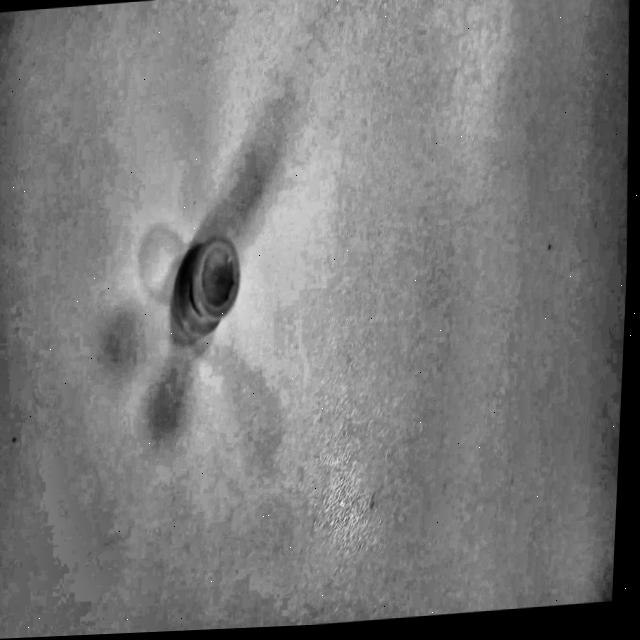white-rook: (170, 226, 239, 339)
